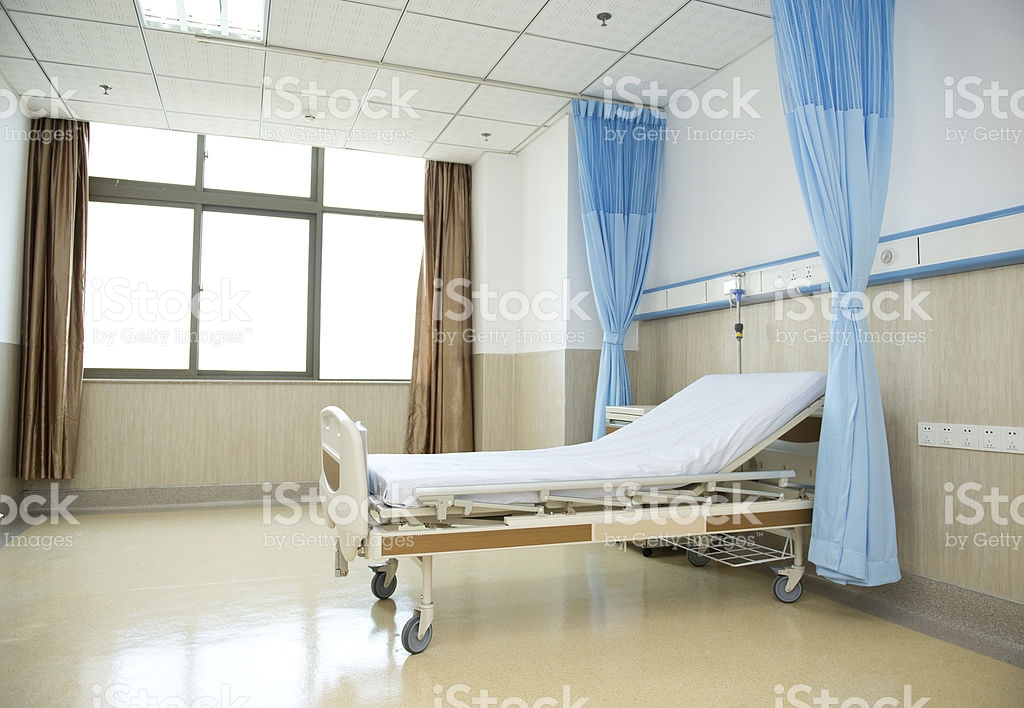hospital bed: (297, 344, 852, 563)
